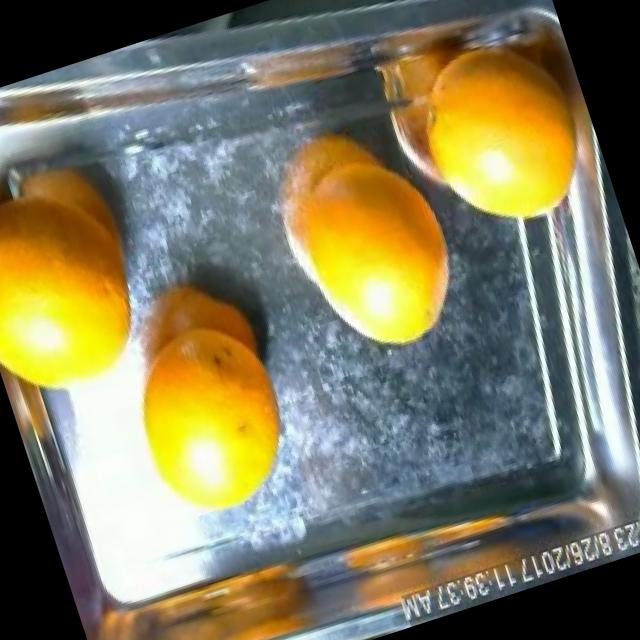Fruit: (99, 298, 324, 551), (286, 180, 490, 382)
